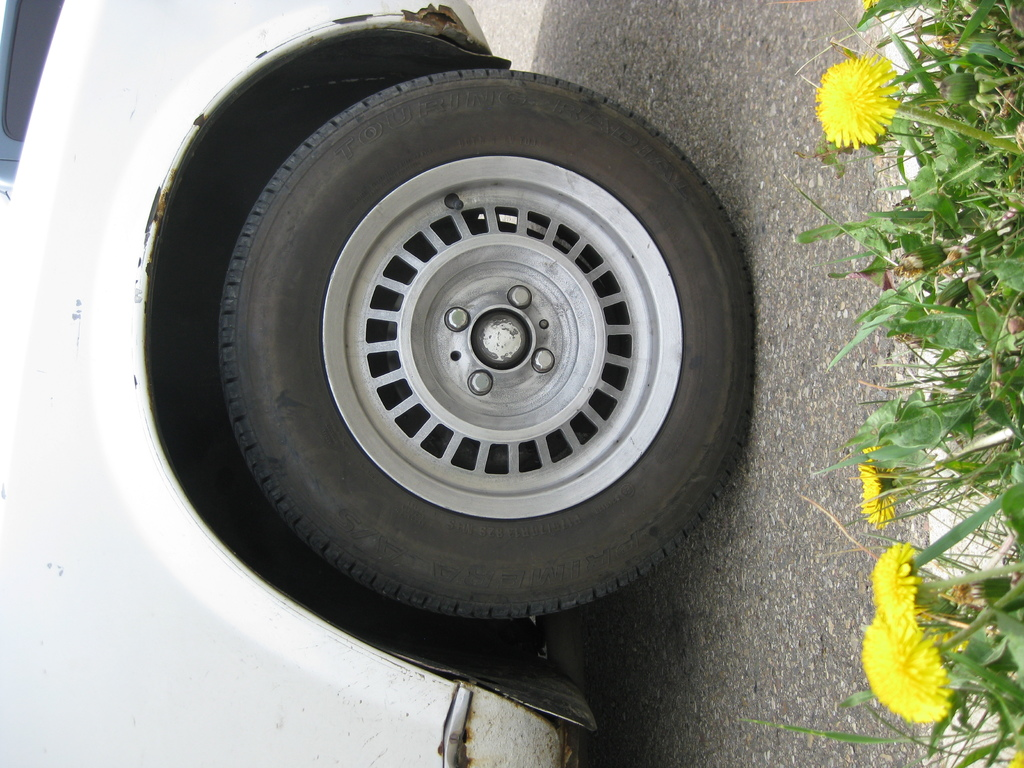Car: (0, 0, 758, 767)
